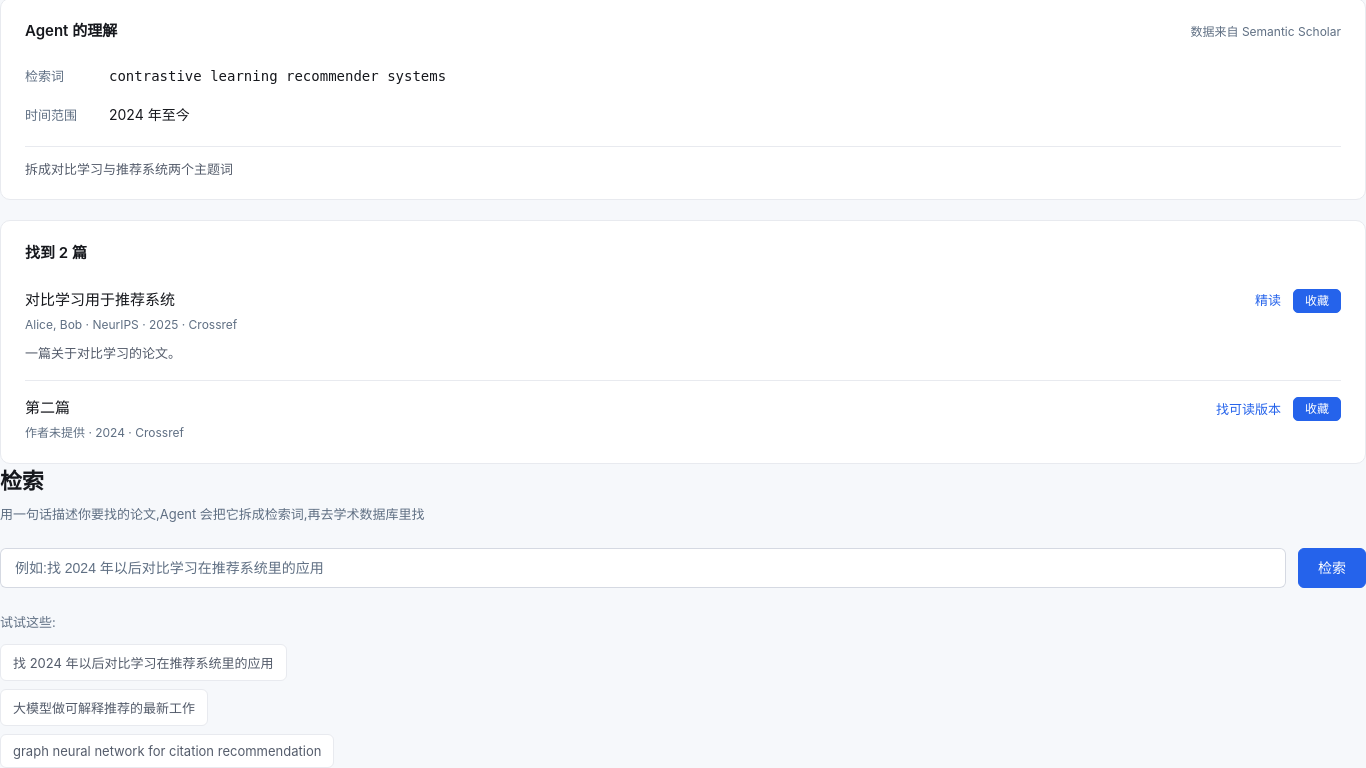
Test case: SearchView › 收藏一篇论文
(page scrolled)
Type "对比学习" into the field with placeholder "例如:找 2024 年以后对比学习在推荐系统里的应用" at (643, 568), box [15,549,1271,587]
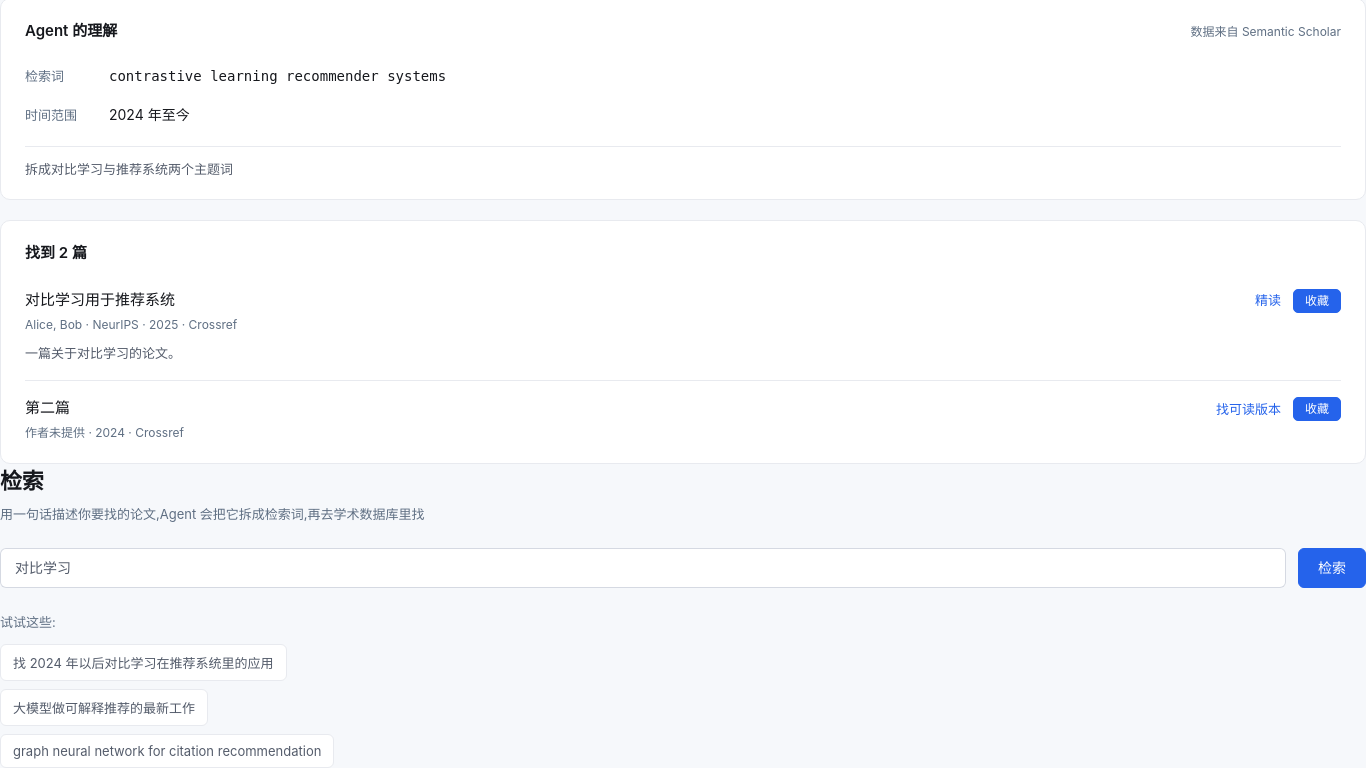
Submit the form, box [0,548,1365,588]
(page scrolled)
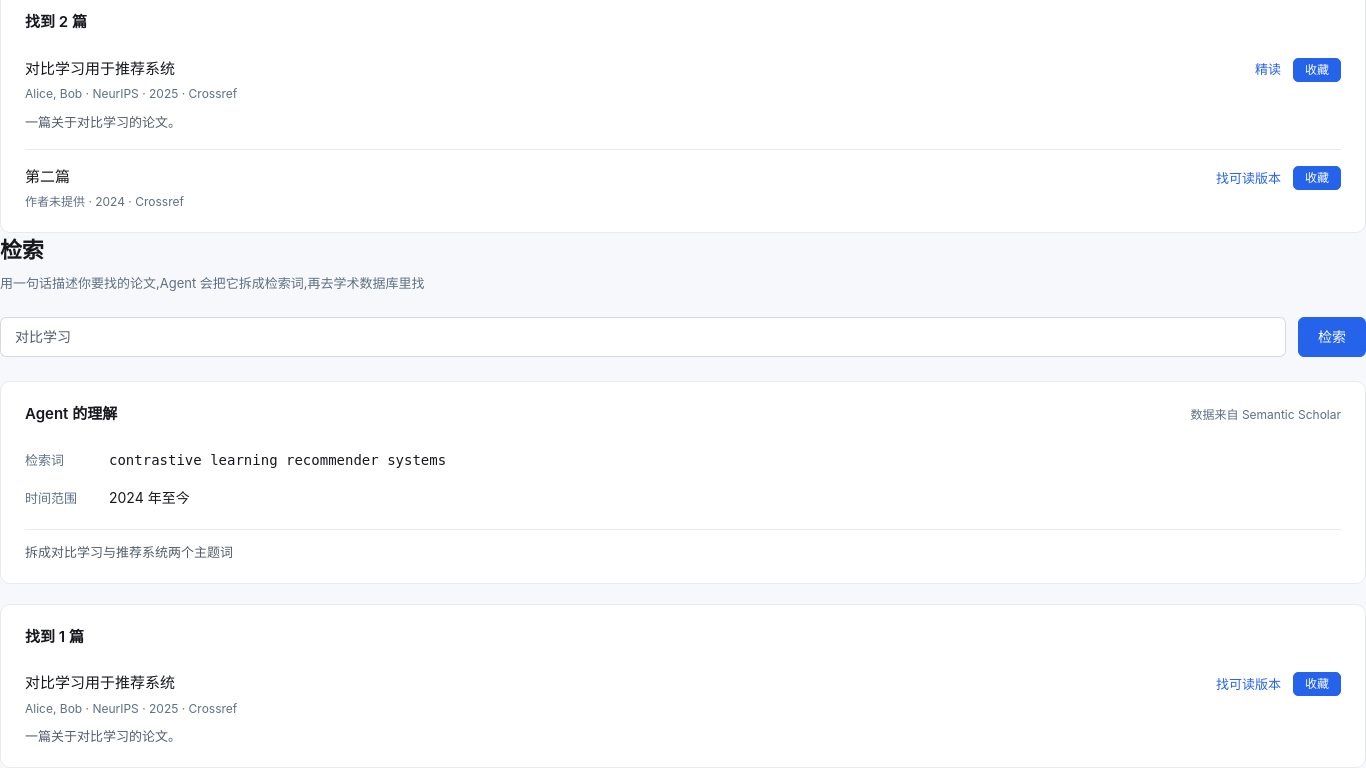
Now the 3rd button "收藏" is shown
Click the 3rd button "收藏" at (1317, 684), box [1293,672,1341,696]
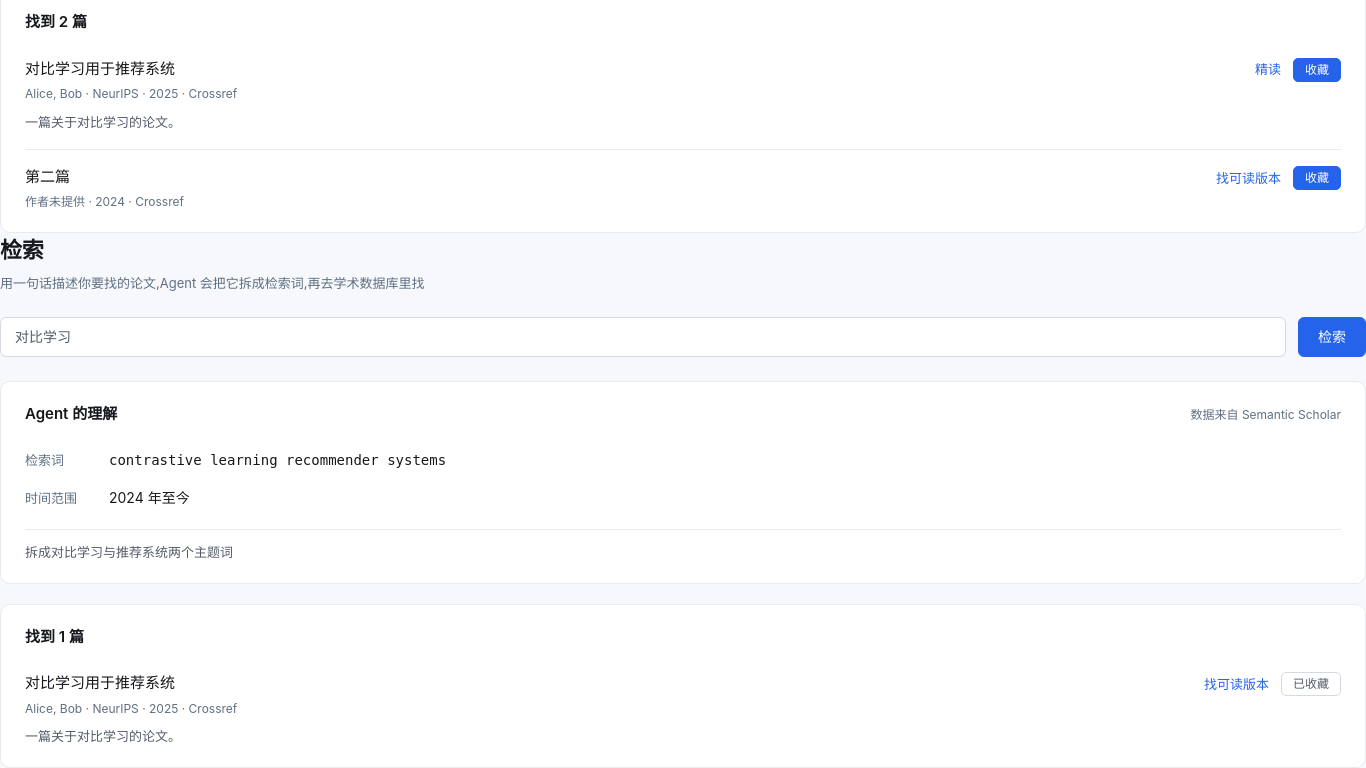
Now the button "已收藏" is shown, box [1281,672,1341,696]
